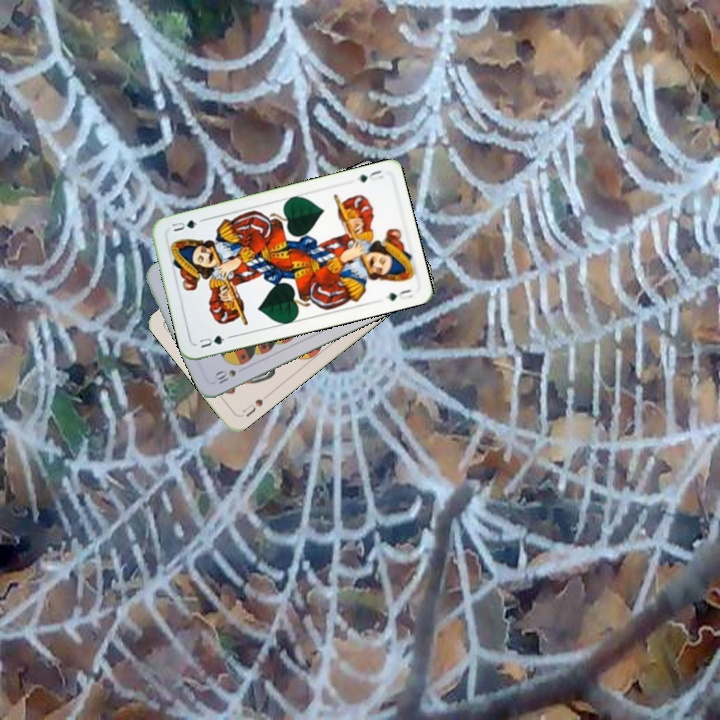GU: (195, 331, 227, 351), (352, 166, 385, 185)
S10: (210, 365, 239, 388)
SU: (238, 390, 272, 419)
